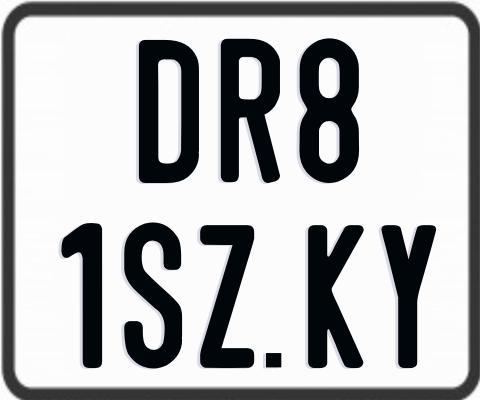1: (60, 223, 104, 371)
8: (298, 38, 359, 184)
D: (138, 38, 198, 181)
K: (307, 225, 365, 372)
R: (220, 36, 284, 186)
S: (121, 220, 183, 366)
Y: (378, 224, 436, 368)
Z: (198, 224, 257, 372)
